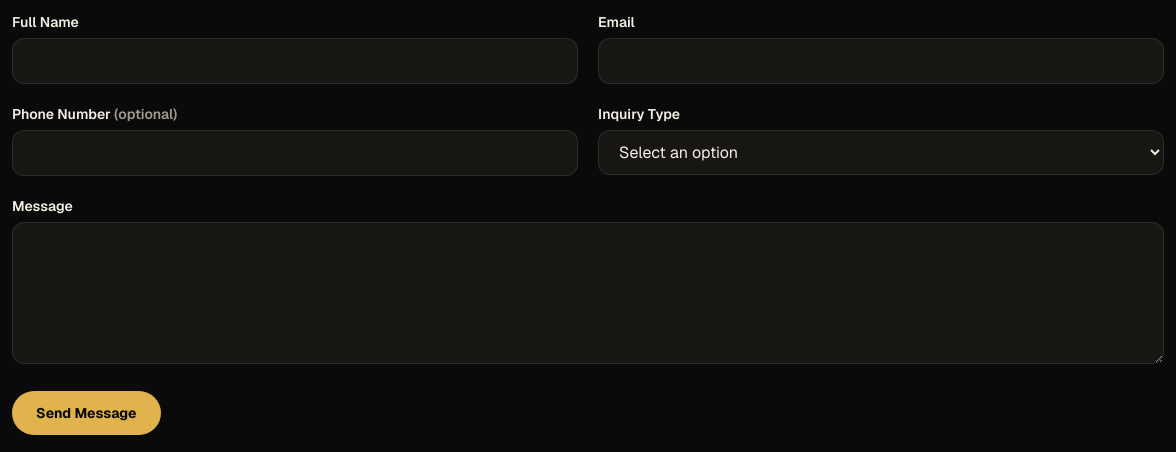
Scenario: ContactForm › shows a success message after a valid submission
Type "Jordan Smith" into the field labelled "Full Name" at (295,61), box [12,38,578,84]
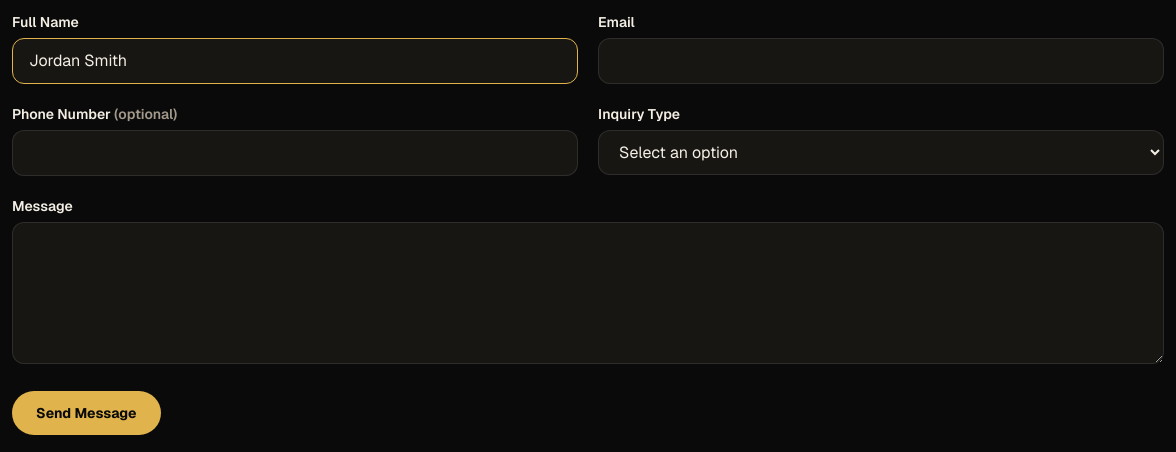
Type "jordan@example.com" into the field labelled "Email" at (881,61), box [598,38,1164,84]
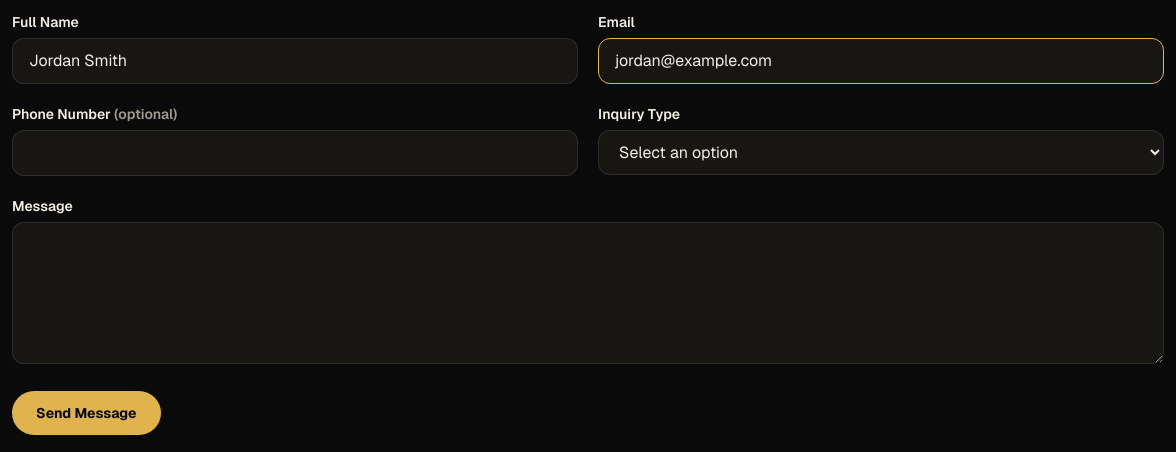
Select "General Query" in the dropdown labelled "Inquiry Type" at (881,152), box [598,130,1164,175]
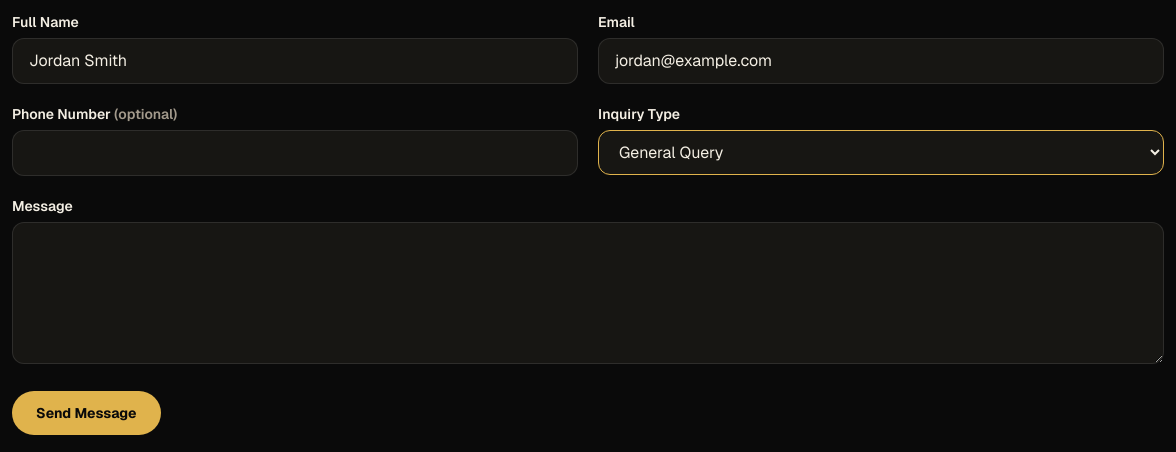
Type "I'd like to learn more about training sessions." into the text box labelled "Message" at (588,293), box [12,222,1164,364]
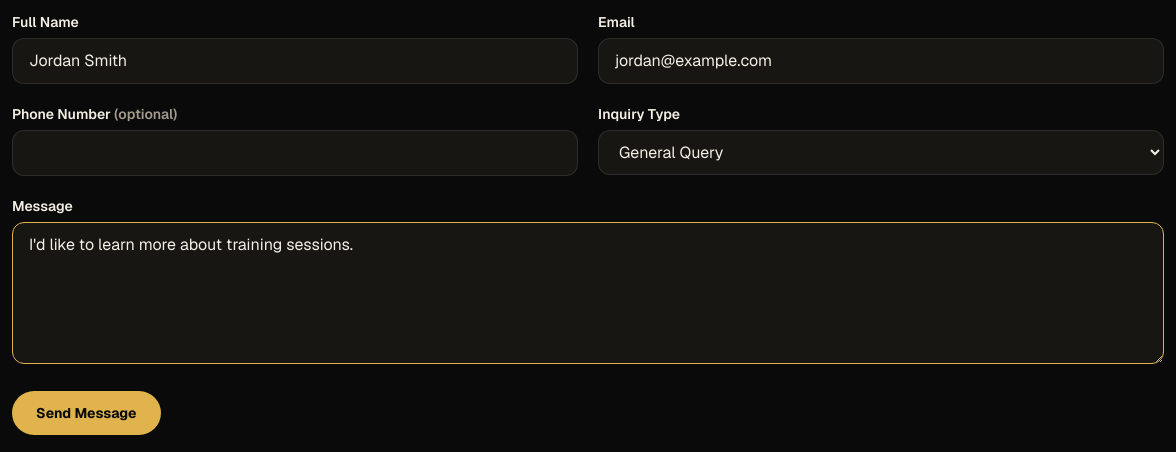
Click the button "Send Message" at (86,413), box [12,391,160,435]
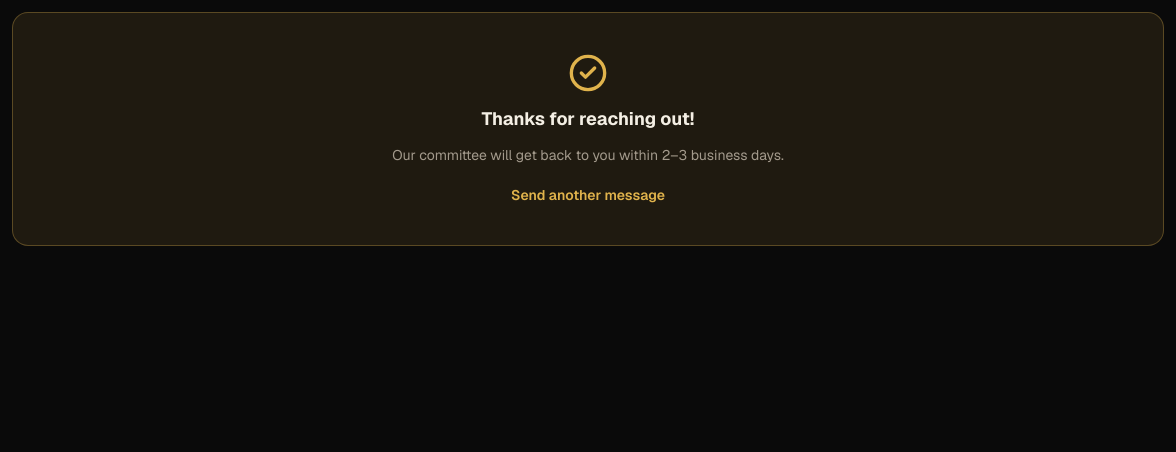
expect the text "Thanks for reaching out!" is shown: met, box [482,105,694,133]
